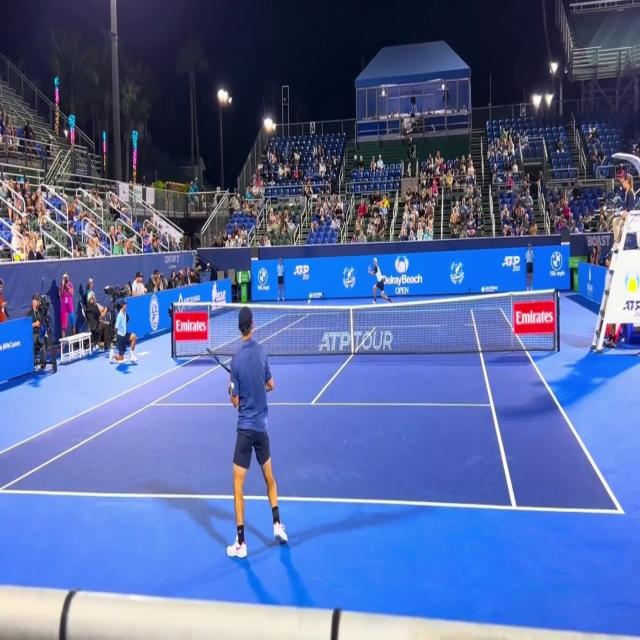tennisBall: (306, 297, 313, 306)
